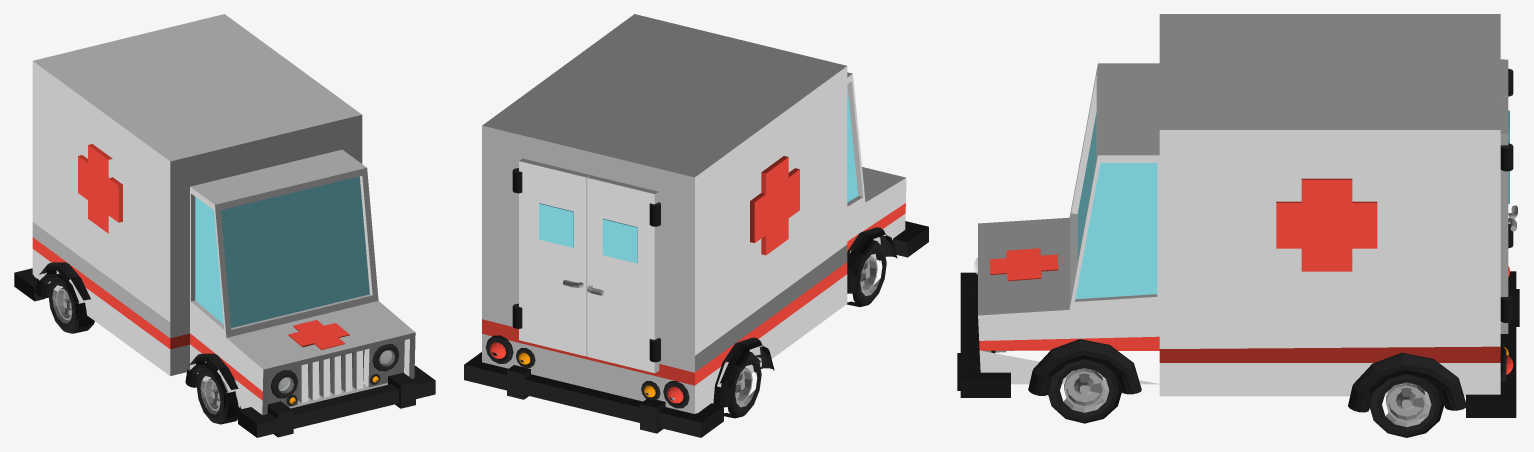
File: ambulance.glb
3 renders of one model, left to right at view 1: azimuth 30°, elevation 25°; view 2: azimuth 150°, elevation 25°; view 3: azimuth 270°, elevation 25°, orthographic. The views are drawn at different scales.
Visible parts, largest first — view 1: Node; view 2: Node; view 3: Node.
Boxes of the visible parts, left/top/right/bottom form: Node: left=14, top=14, right=435, bottom=437; Node: left=464, top=14, right=928, bottom=437; Node: left=957, top=14, right=1519, bottom=437.
Bounding box in the file's own units: 1.01 × 1.06 × 1.78.
